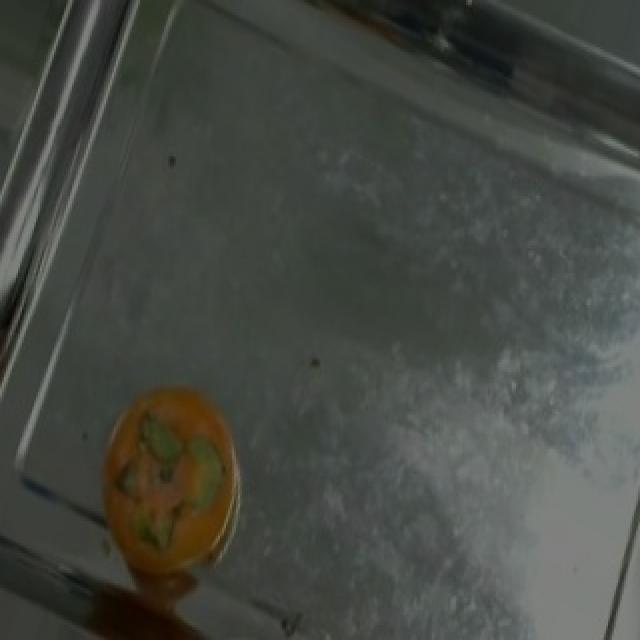Fruit: (70, 364, 266, 598)
